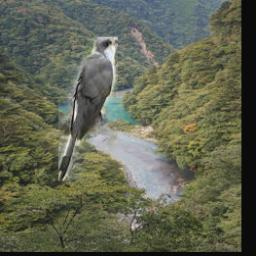Cuckoo: (59, 38, 119, 182)
